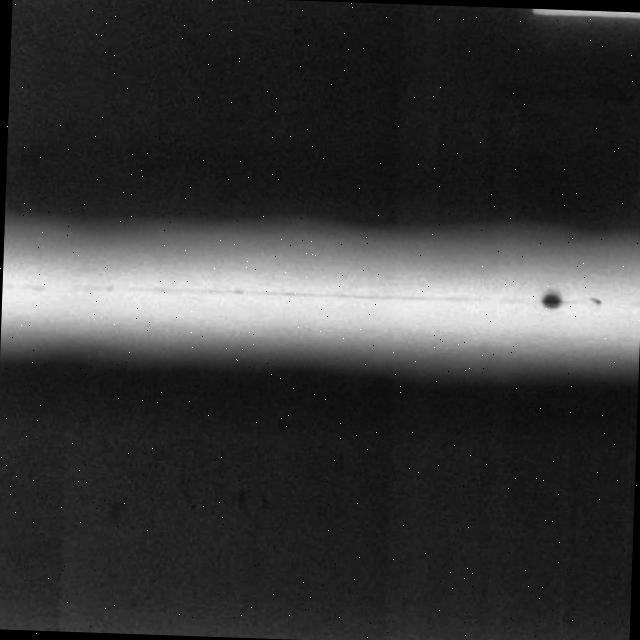LoP-LoF: (1, 255, 640, 334)
Pore: (534, 280, 564, 316)
